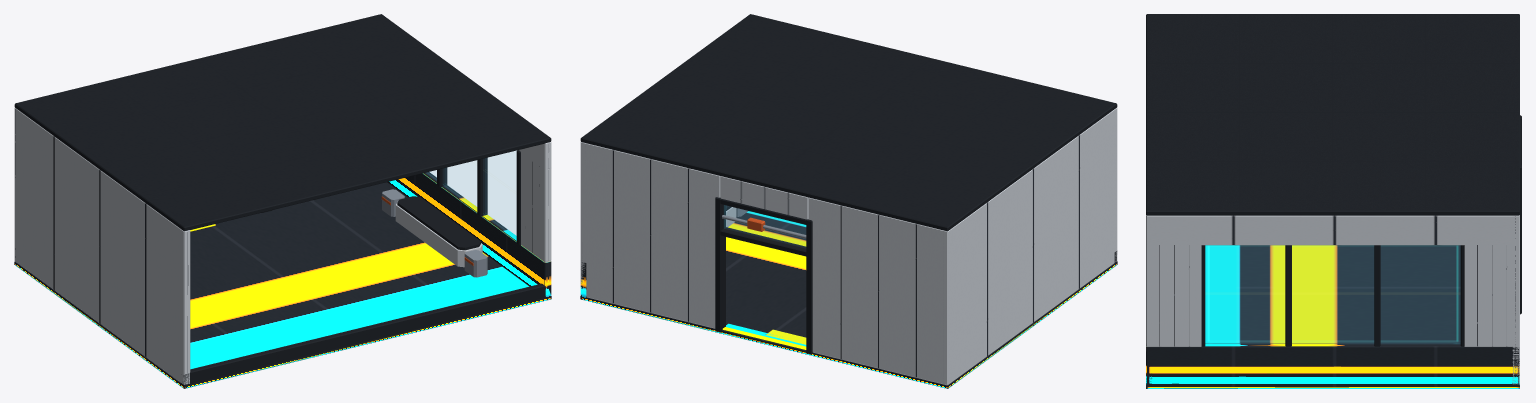
Rendered from preface_service_call_room.glb.
3 views of the same model, side by side, from view 1: azimuth 30°, elevation 25°; view 2: azimuth 150°, elevation 25°; view 3: azimuth 270°, elevation 25° (orthographic). The views are drawn at different scales.
Parts seen in each view (by area): view 1: Vestibule_Shell, Commuter_Waiting_Bench, East_Promenade_Viewport; view 2: Vestibule_Shell, Counterweight_Transom_Window, Floor_Power_Conduit; view 3: Vestibule_Shell, East_Promenade_Viewport.
Part boxes in pixels (x1,y1,x2,y2): Vestibule_Shell: (14, 14, 551, 388); Commuter_Waiting_Bench: (381, 189, 487, 277); East_Promenade_Viewport: (426, 151, 516, 238); Vestibule_Shell: (580, 14, 1117, 388); Counterweight_Transom_Window: (722, 205, 806, 246); Floor_Power_Conduit: (722, 323, 806, 349); Vestibule_Shell: (1146, 14, 1521, 388); East_Promenade_Viewport: (1205, 245, 1460, 343).
Bounding box in the file's own units: 10 × 4.2 × 8.04.
Materials: 8 (8 with a texture image).
